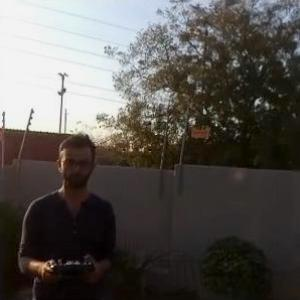follow: (12, 125, 120, 299)
